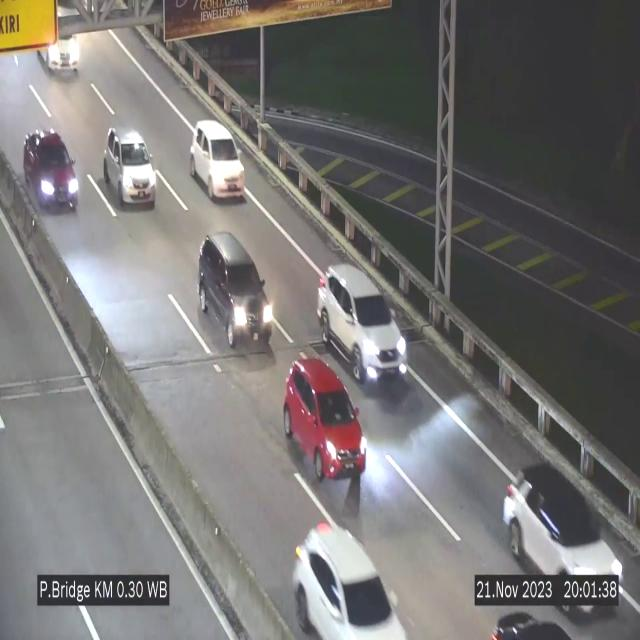Car: (491, 447, 627, 627), (285, 520, 418, 640), (316, 265, 408, 386), (284, 356, 366, 481), (198, 227, 276, 350), (22, 125, 80, 215), (190, 120, 246, 200), (104, 128, 156, 208), (35, 26, 89, 74)
